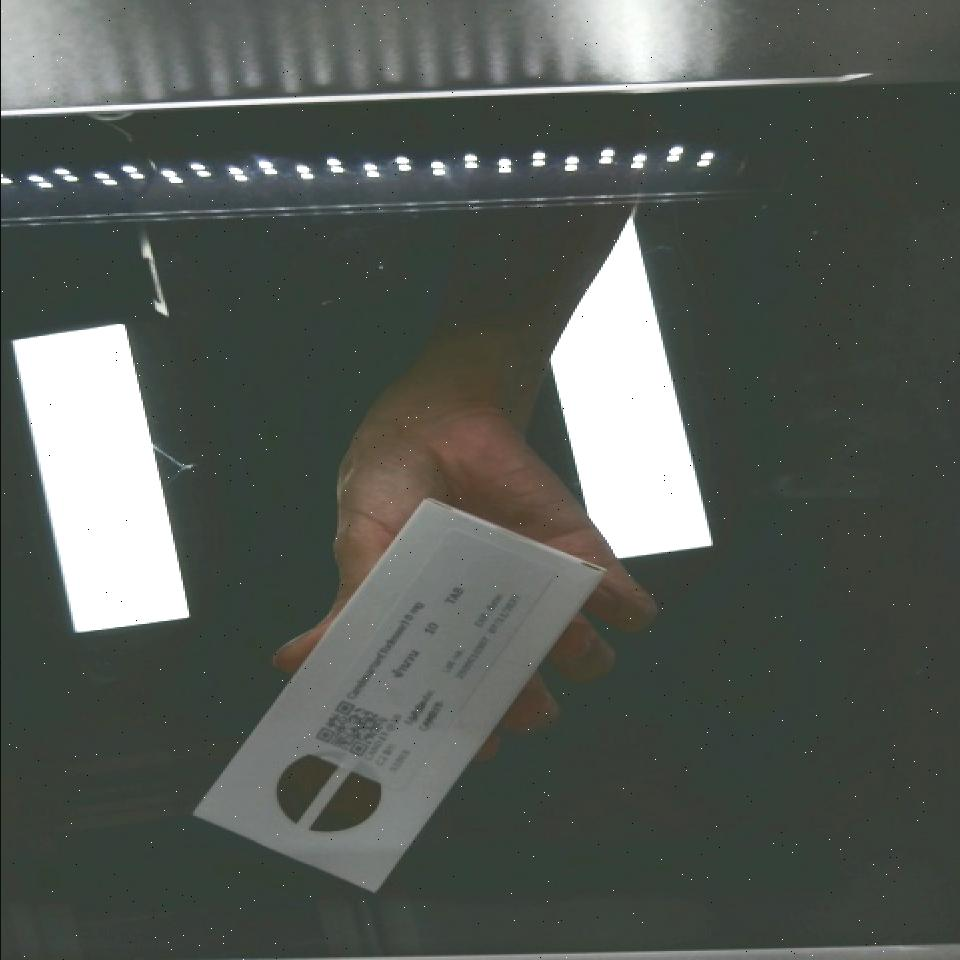medicine_box: (202, 463, 601, 922)
qr_code: (292, 682, 396, 778)
